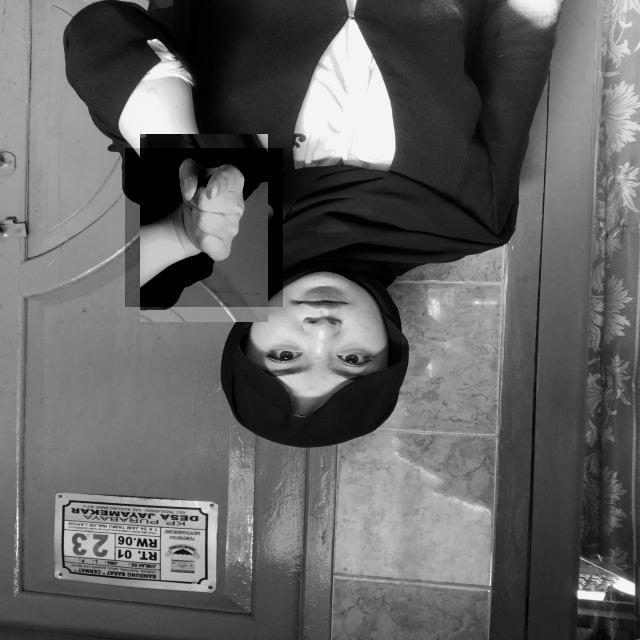kamu: (125, 148, 283, 307)
